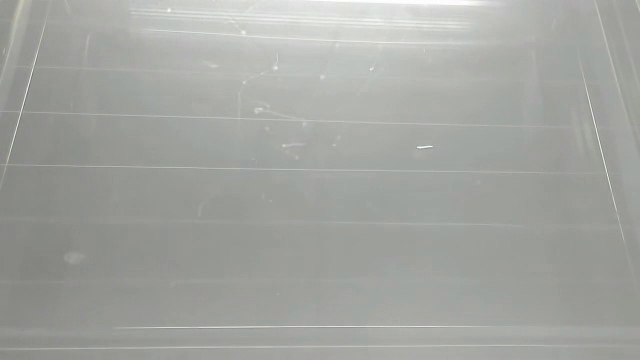alpha: (61, 247, 87, 267), (414, 141, 437, 156)
